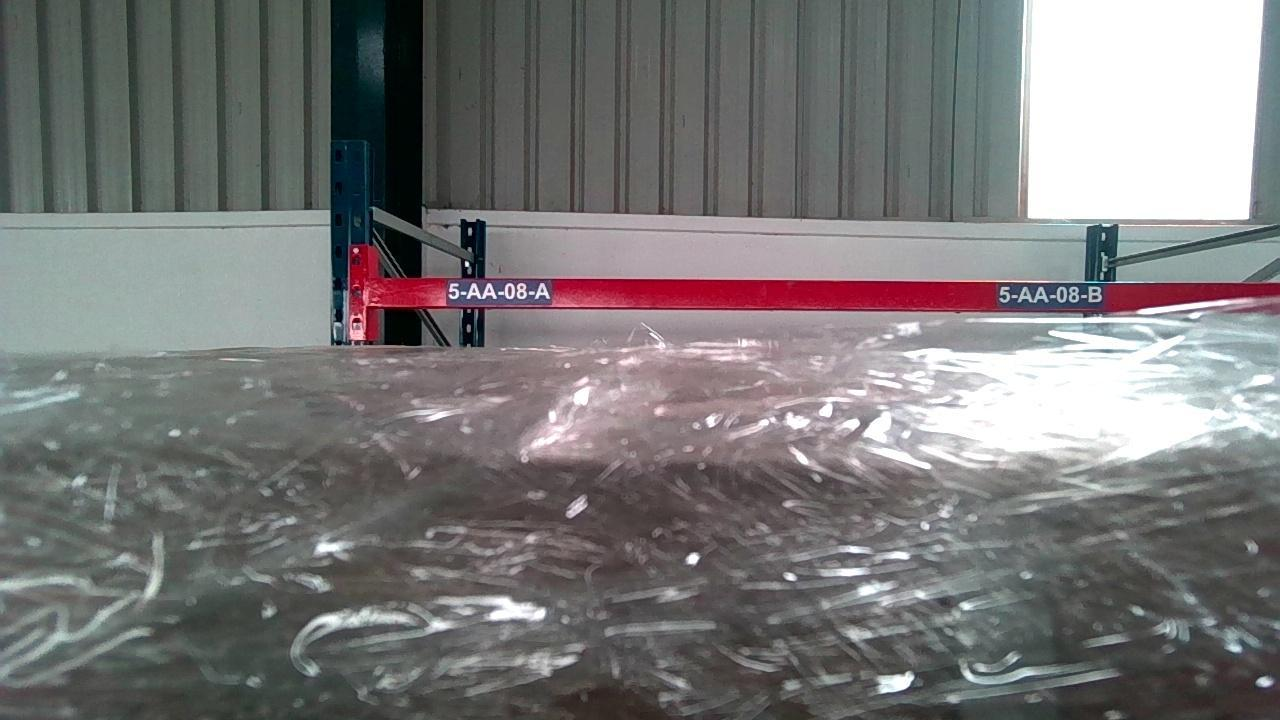h_rack: (368, 278, 1275, 309)
